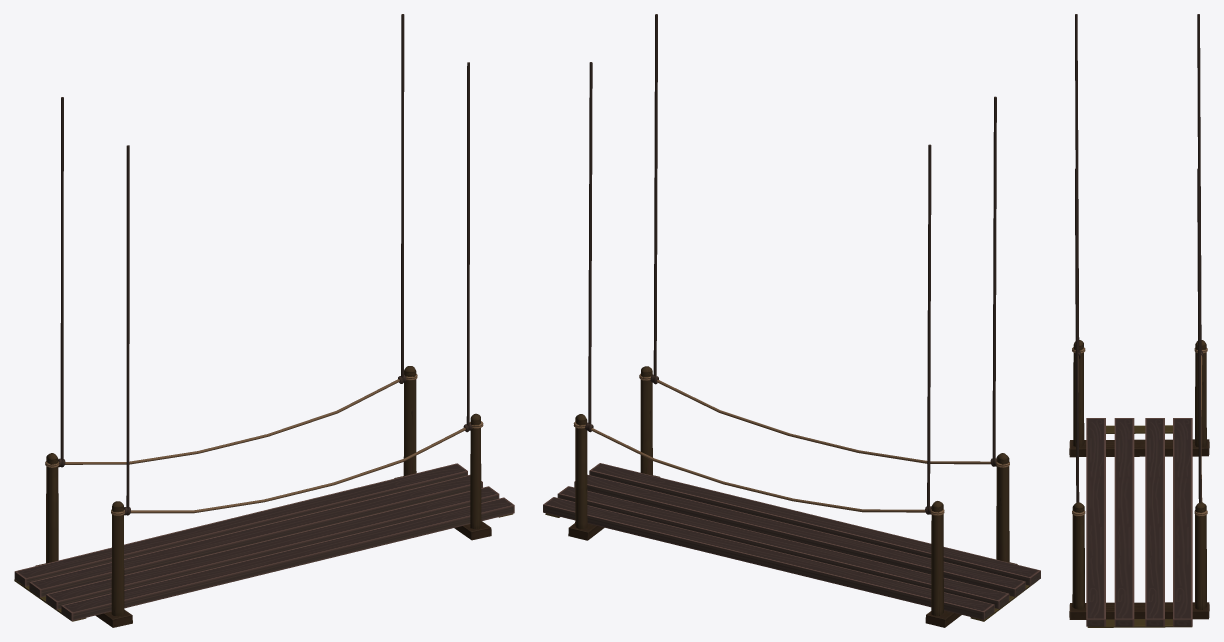
The model's file is Hanging Platforms.fbx.
3 views of the same model, side by side, from view 1: azimuth 30°, elevation 25°; view 2: azimuth 150°, elevation 25°; view 3: azimuth 270°, elevation 25° (orthographic). The views are drawn at different scales.
Visible parts, largest first — view 1: WoodPlank1, WoodPlank3, WoodPlank2, WoodPlank4, Rope_Vertical1, Pole4, Pole5, Pole6, Pole7, Rope1, Rope_Vertical2, Rope2 (+2 smaller); view 2: WoodPlank4, WoodPlank2, WoodPlank1, WoodPlank3, Pole4, Pole5, Pole6, Rope_Vertical3, Rope_Vertical2, Rope_Vertical1, Pole7, Rope_Vertical4 (+2 smaller); view 3: WoodPlank2, WoodPlank1, WoodPlank3, WoodPlank4, Pole7, Pole6, Rope_Vertical3, Rope_Vertical4, MetalSupport_5, Pole5, MetalSupport_1, Pole4 (+4 smaller).
Boxes of the visible parts, x1,y1,x2,y2 form: WoodPlank1: (61, 497, 514, 620); WoodPlank3: (29, 475, 482, 597); WoodPlank2: (46, 486, 499, 609); WoodPlank4: (14, 463, 467, 586); Rope_Vertical1: (126, 145, 129, 508); Pole4: (111, 501, 124, 616); Pole5: (46, 453, 58, 563); Pole6: (403, 366, 416, 476); Pole7: (470, 413, 481, 528); Rope1: (130, 427, 465, 513); Rope_Vertical2: (60, 97, 63, 460); Rope2: (65, 379, 399, 464); WoodPlank4: (543, 497, 994, 619); WoodPlank2: (574, 474, 1025, 596); WoodPlank1: (589, 463, 1040, 585); WoodPlank3: (557, 486, 1009, 608); Pole4: (996, 453, 1009, 562); Pole5: (931, 501, 943, 615); Pole6: (575, 414, 587, 529); Rope_Vertical3: (588, 62, 592, 424); Rope_Vertical2: (927, 144, 931, 507); Rope_Vertical1: (992, 96, 996, 459); Pole7: (640, 366, 652, 475); Rope_Vertical4: (653, 14, 657, 376); WoodPlank2: (1114, 418, 1134, 626); WoodPlank1: (1086, 418, 1105, 626); WoodPlank3: (1145, 418, 1164, 626); WoodPlank4: (1173, 418, 1192, 626); Pole7: (1072, 502, 1084, 609); Pole6: (1195, 502, 1206, 609); Rope_Vertical3: (1197, 168, 1201, 502); Rope_Vertical4: (1075, 168, 1079, 502); MetalSupport_5: (1069, 602, 1209, 619); Pole5: (1195, 340, 1206, 446); MetalSupport_1: (1069, 439, 1209, 457); Pole4: (1073, 340, 1084, 447).
Bounding box in the file's own units: 28.75 × 29.49 × 8.46.
